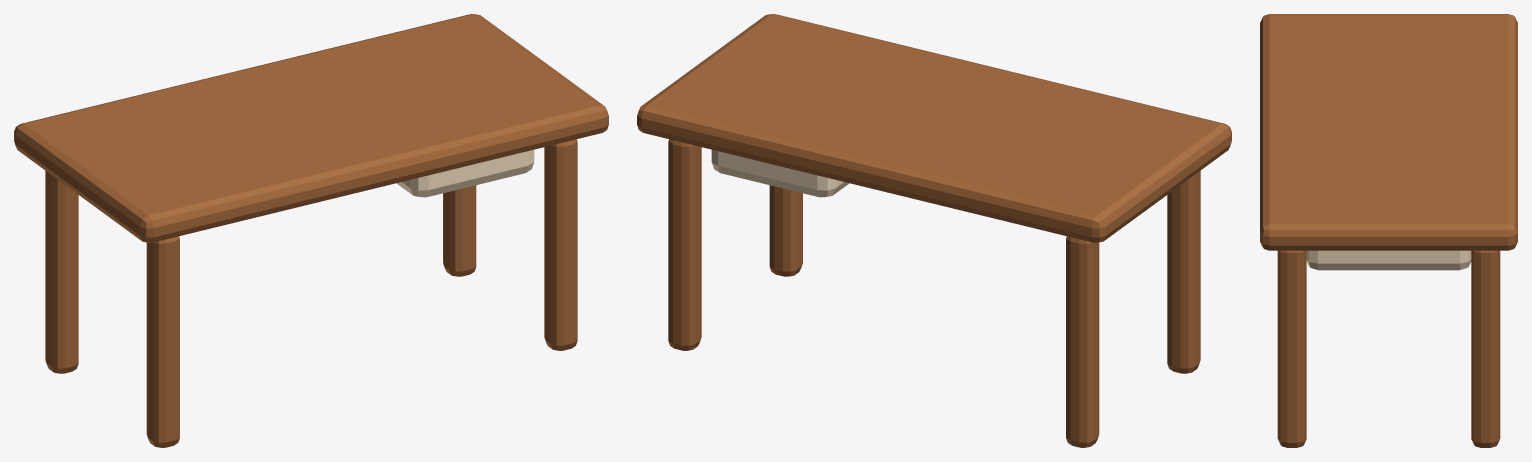
Rendered from prop_meja.fbx.
The picture shows the model from 3 angles, left to right: view 1: azimuth 30°, elevation 25°; view 2: azimuth 150°, elevation 25°; view 3: azimuth 270°, elevation 25°; orthographic projection. The views are drawn at different scales.
Visible parts, largest first — view 1: prop_meja; view 2: prop_meja; view 3: prop_meja.
Boxes of the visible parts, x1,y1,x2,y2 form: prop_meja: [14, 14, 608, 447]; prop_meja: [637, 14, 1231, 447]; prop_meja: [1260, 14, 1517, 447].
Size of the model in its own units: 160 by 80 by 80.
1 material, 1 textured.
